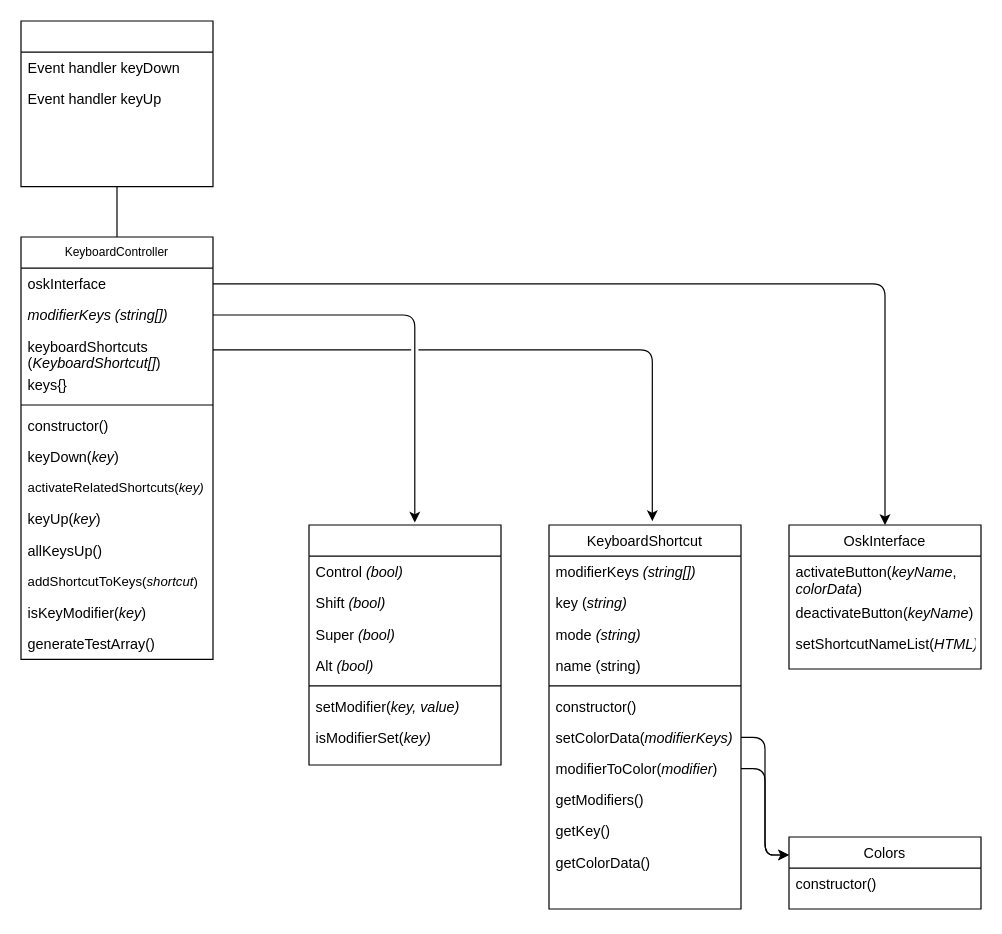
The diagram is 1002 pixels wide and 934 high, and some of its shapes have lost their labels. Each missing label, with the box of its shape:
Index.js: (20, 20, 213, 187)
ModifierKeys: (308, 524, 501, 765)
